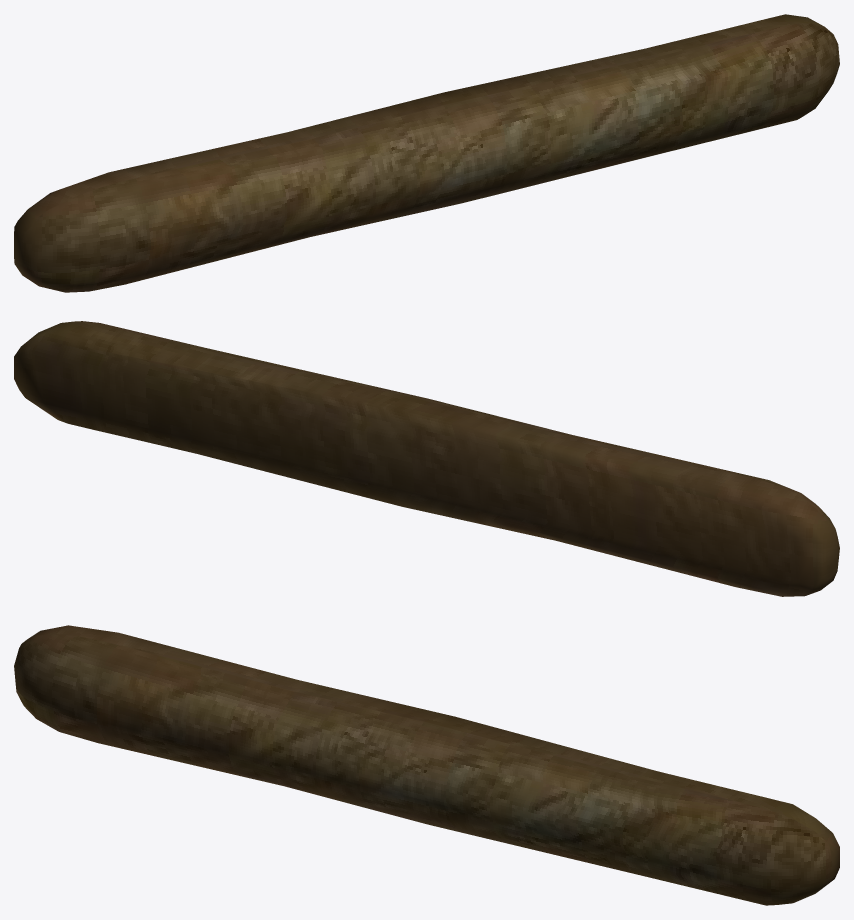
File: shop-item-1038.glb
3 views of the same model, one above another, from view 1: azimuth 30°, elevation 25°; view 2: azimuth 150°, elevation 25°; view 3: azimuth 330°, elevation 25° (orthographic).
Visible parts, largest first — view 1: melee_stale_baguette_mx_1; view 2: melee_stale_baguette_mx_1; view 3: melee_stale_baguette_mx_1.
Part boxes in pixels (x1,y1,x2,y2): melee_stale_baguette_mx_1: (14,14,839,292); melee_stale_baguette_mx_1: (14,321,839,596); melee_stale_baguette_mx_1: (14,625,839,905).
Bounding box in the file's own units: 0.7769 × 0.093 × 0.0678.
1 material, 1 textured.
